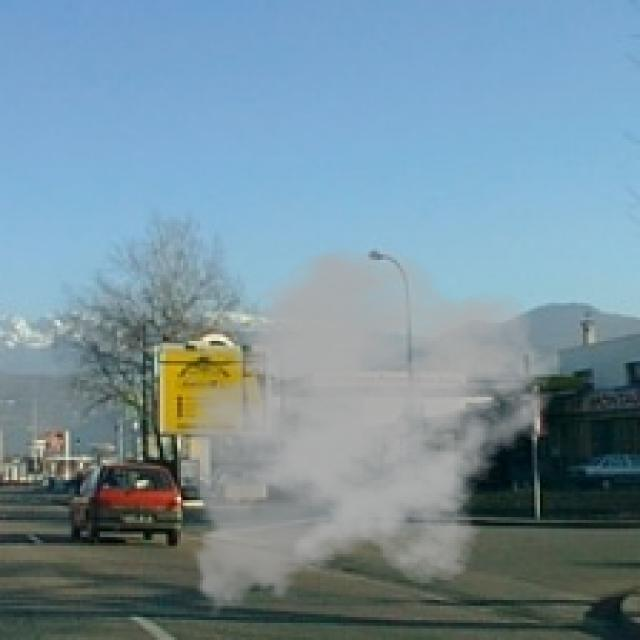smoke: (171, 246, 566, 623)
